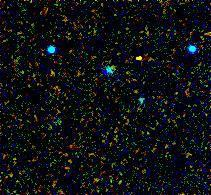star: (126, 44, 156, 74)
